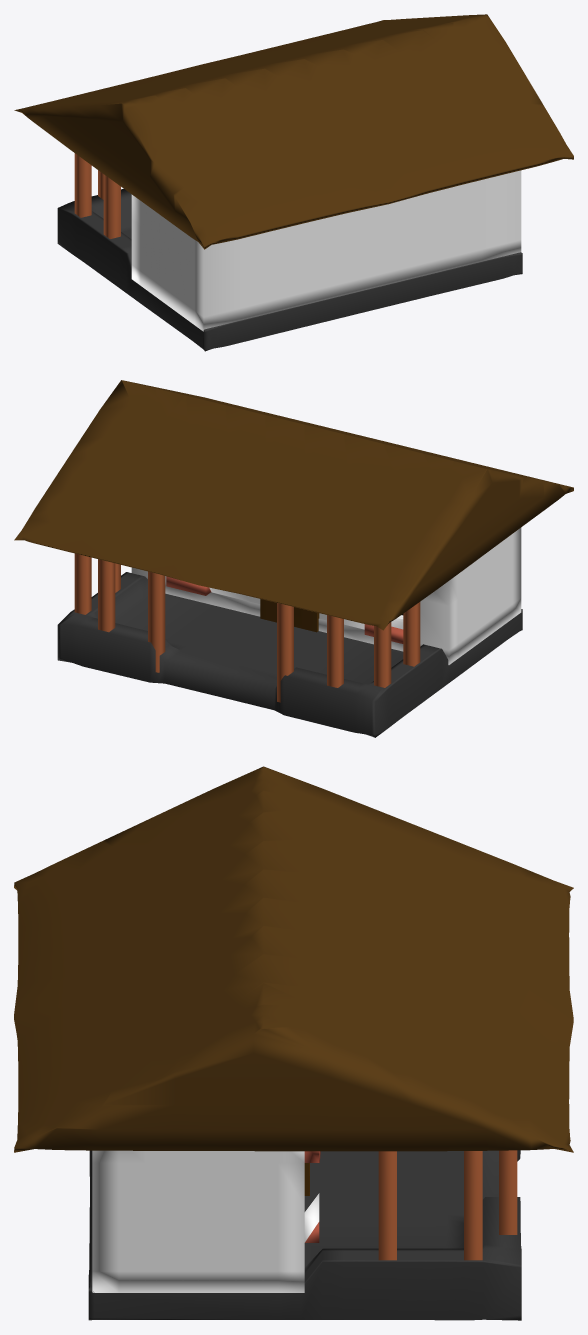
Rendered from casa.fbx.
3 views of the same model, one above another, from view 1: azimuth 30°, elevation 25°; view 2: azimuth 150°, elevation 25°; view 3: azimuth 270°, elevation 25° (orthographic). The views are drawn at different scales.
Parts seen in each view (by area): view 1: PM3D_Cube3D2, PM3D_Cube3D1, PM3D_Cube3D2_1, PM3D_Cube3D1_1; view 2: PM3D_Cube3D2, PM3D_Cube3D2_1, PM3D_Cube3D1, PM3D_Cube3D1_1, PM3D_Cube3D1_copy1; view 3: PM3D_Cube3D2, PM3D_Cube3D2_1, PM3D_Cube3D1, PM3D_Cube3D1_1.
Part boxes in pixels (bbox=[...]): PM3D_Cube3D2: bbox=[14, 14, 573, 249]; PM3D_Cube3D1: bbox=[131, 170, 521, 331]; PM3D_Cube3D2_1: bbox=[57, 188, 522, 351]; PM3D_Cube3D1_1: bbox=[74, 153, 120, 238]; PM3D_Cube3D2: bbox=[14, 380, 573, 630]; PM3D_Cube3D2_1: bbox=[57, 572, 522, 737]; PM3D_Cube3D1: bbox=[131, 527, 521, 664]; PM3D_Cube3D1_1: bbox=[74, 553, 420, 702]; PM3D_Cube3D1_copy1: bbox=[260, 599, 319, 632]; PM3D_Cube3D2: bbox=[14, 766, 573, 1152]; PM3D_Cube3D2_1: bbox=[88, 1150, 521, 1320]; PM3D_Cube3D1: bbox=[92, 1150, 320, 1292]; PM3D_Cube3D1_1: bbox=[378, 1150, 517, 1260].
Bounding box in the file's own units: 1346 × 732 × 1202.
